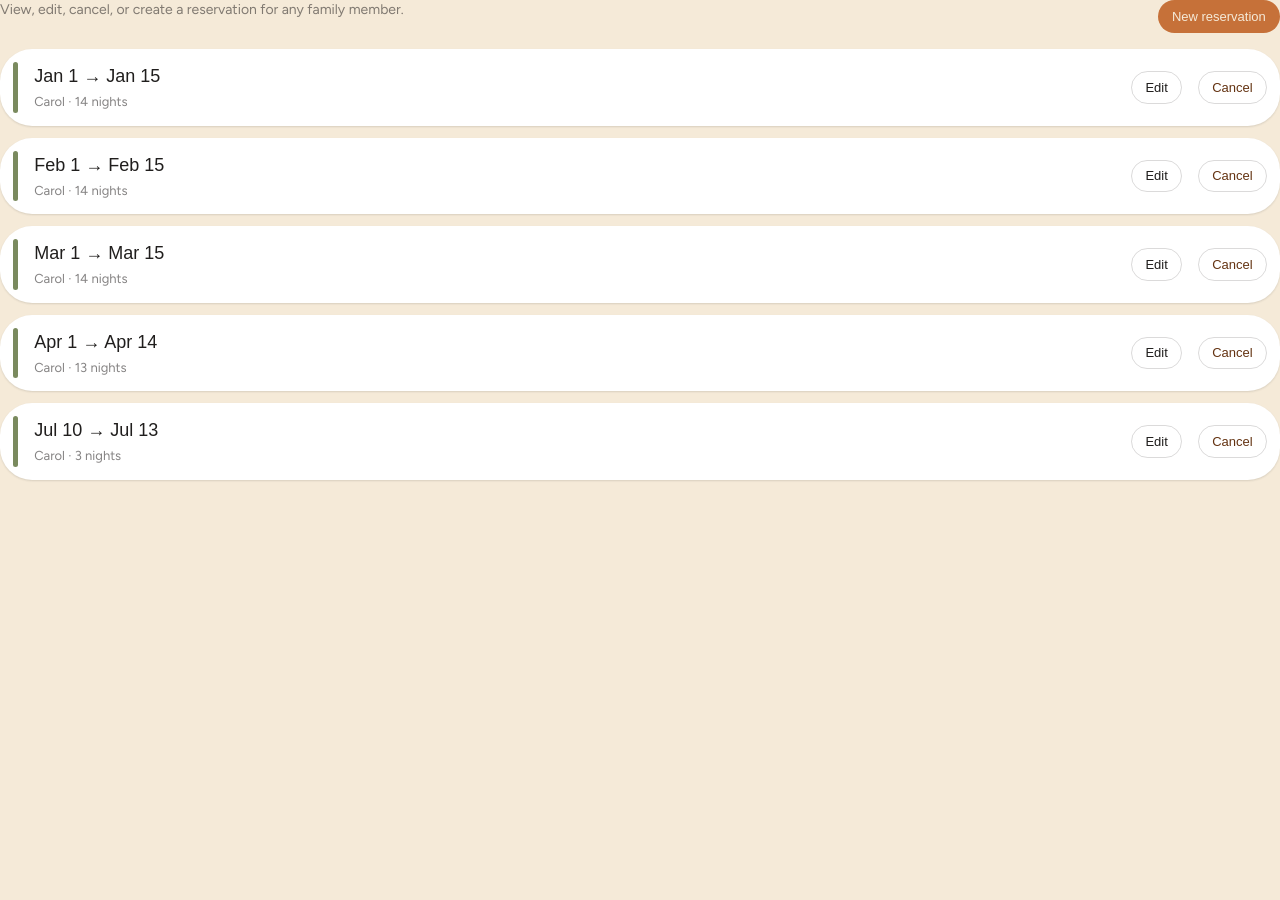
Test: CAP-025 Manage all reservations › CAP-025 · I change a member’s stay (new dates are checked against Carol’s yearly limit)
Check: the text "View, edit, cancel, or create a reservation for any family member." is shown, box x1=0 y1=0 x2=404 y2=20
Click the button "Edit" in the row of "Jul 10 → Jul 13" at (1157, 441), box x1=1131 y1=425 x2=1182 y2=458
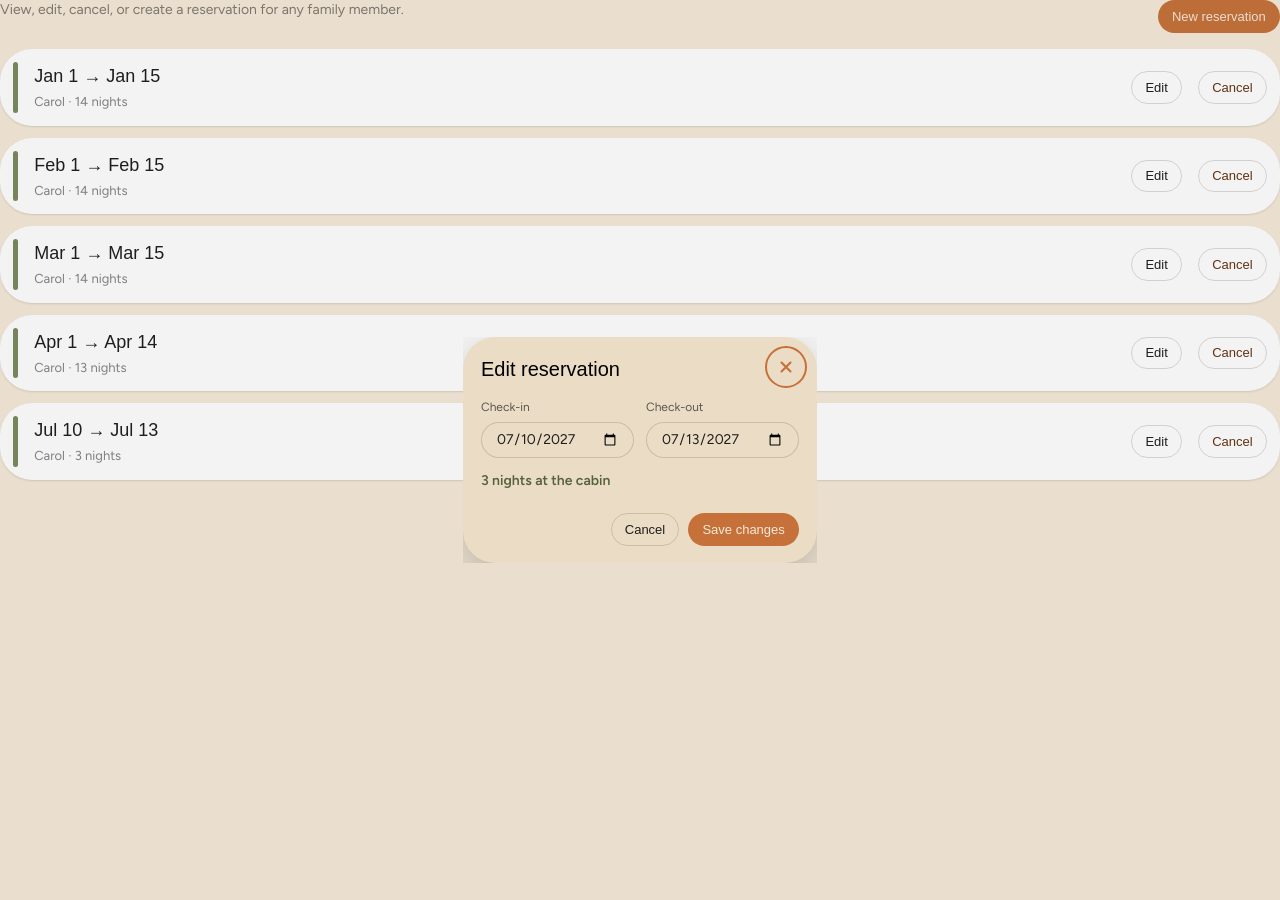
Check: the text "Edit reservation" is shown, box x1=481 y1=354 x2=620 y2=385
3 → 5 nights keeps Carol at 60: allowed.
Type "2027-07-15" into the date field with id "booking-check-out" at (722, 440), box x1=646 y1=422 x2=799 y2=458
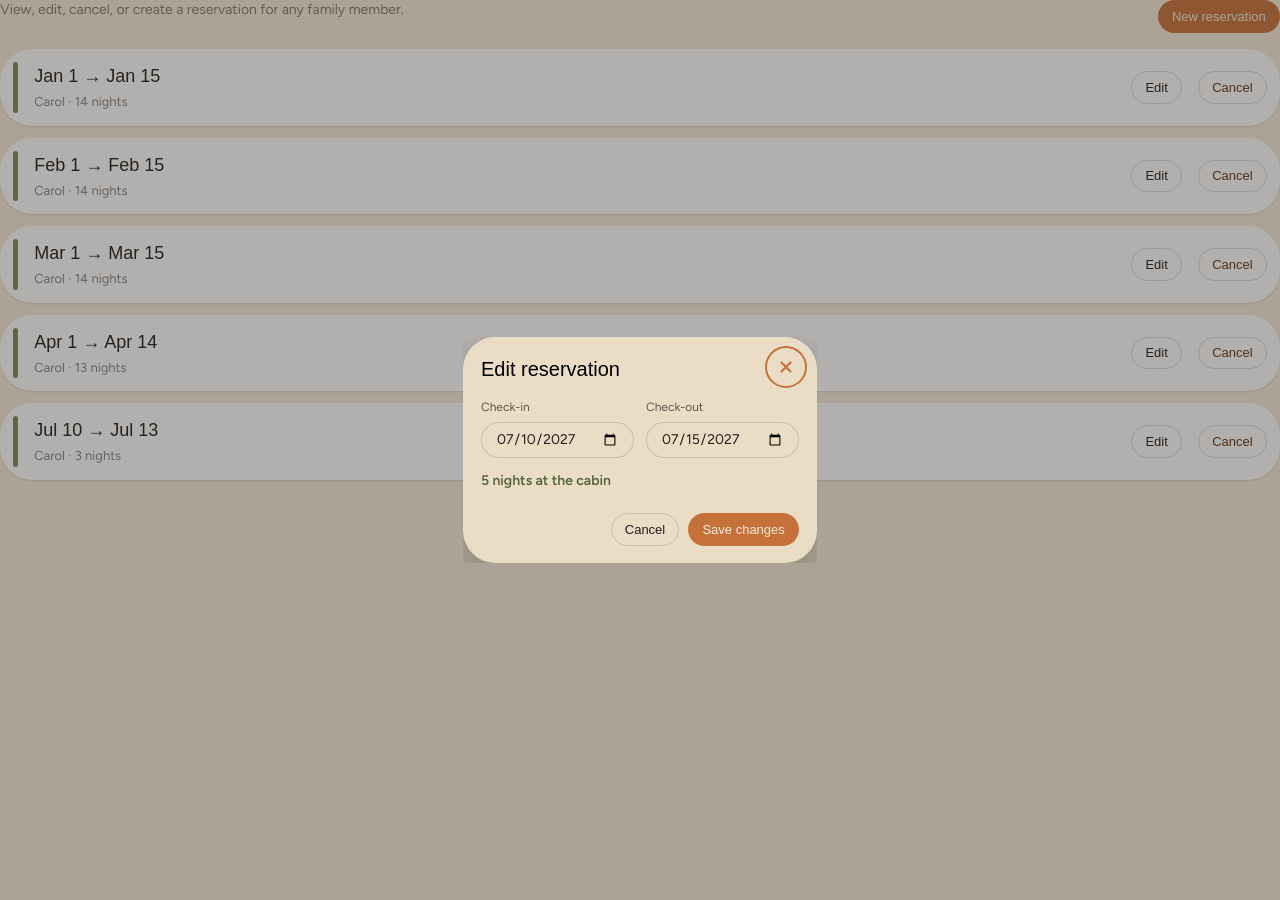
Check: the button "Save changes" is enabled, box x1=688 y1=513 x2=799 y2=546
3 → 6 nights takes Carol to 61: refused on HER limit.
Type "2027-07-16" into the date field with id "booking-check-out" at (722, 440), box x1=646 y1=422 x2=799 y2=458
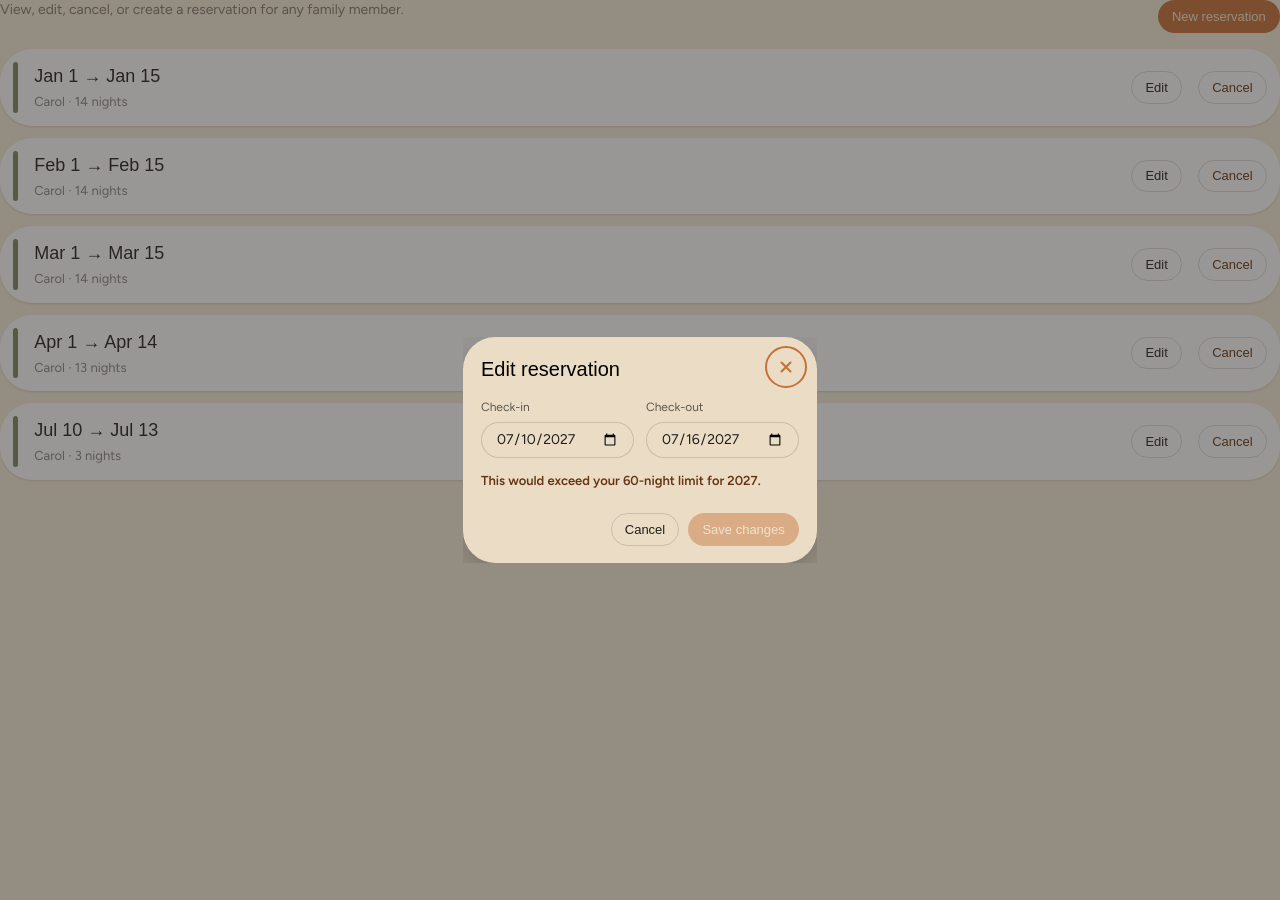
Check: the text "This would exceed your 60-night limit for 2027." is shown, box x1=481 y1=471 x2=799 y2=491
Check: the button "Save changes" is disabled, box x1=688 y1=513 x2=799 y2=546
